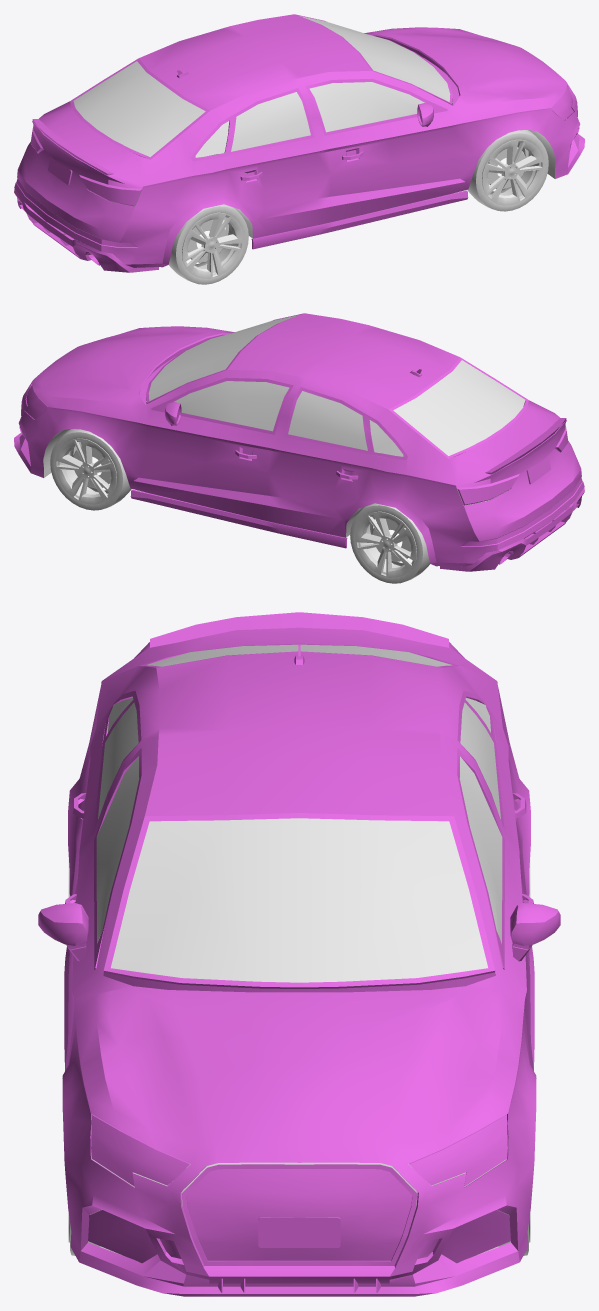
The model's file is Car.fbx.
The picture shows the model from 3 angles, top to bottom: view 1: azimuth 30°, elevation 25°; view 2: azimuth 150°, elevation 25°; view 3: azimuth 270°, elevation 25°; orthographic projection. The views are drawn at different scales.
Parts seen in each view (by area): view 1: win_l; view 2: win_l; view 3: win_l.
Boxes of the visible parts, <box> form: win_l: <box>14,14,584,284</box>; win_l: <box>14,313,584,583</box>; win_l: <box>38,612,560,1296</box>.
Size of the model in its own units: 7.44 by 2.35 by 3.3.
